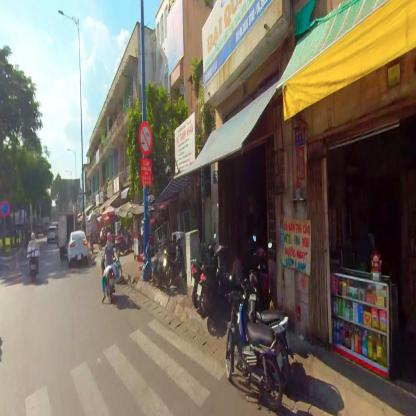Cam con lai: (139, 122, 152, 154)
Cam dung va do: (0, 199, 9, 215)
